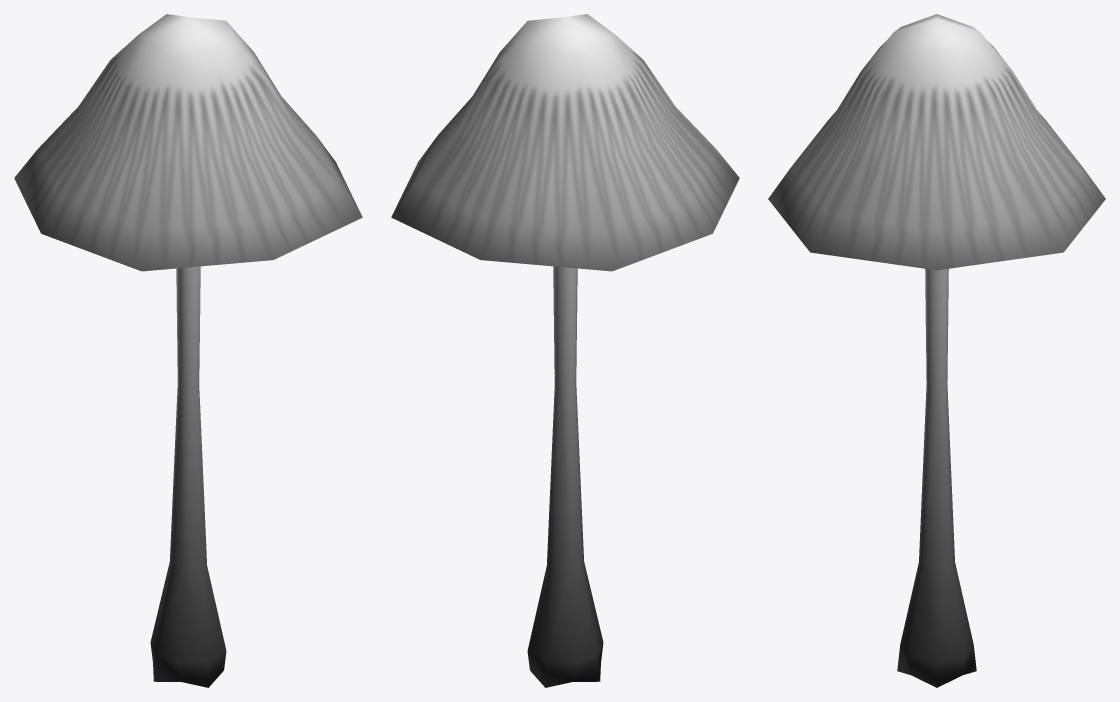
File: MushroomLampHand.fbx
The picture shows the model from 3 angles, left to right: view 1: azimuth 30°, elevation 25°; view 2: azimuth 150°, elevation 25°; view 3: azimuth 270°, elevation 25°; orthographic projection.
Parts seen in each view (by area): view 1: MushRoom (1); view 2: MushRoom (1); view 3: MushRoom (1).
Boxes of the visible parts, box(x1,y1,x2,y2) form: MushRoom (1): box(14, 14, 362, 687); MushRoom (1): box(391, 14, 739, 687); MushRoom (1): box(768, 14, 1105, 687).
Size of the model in its own units: 0.7676 by 1.66 by 0.7676.
